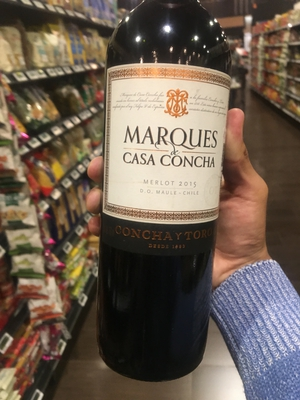marques de casa concha merlot: (100, 10, 237, 358)
